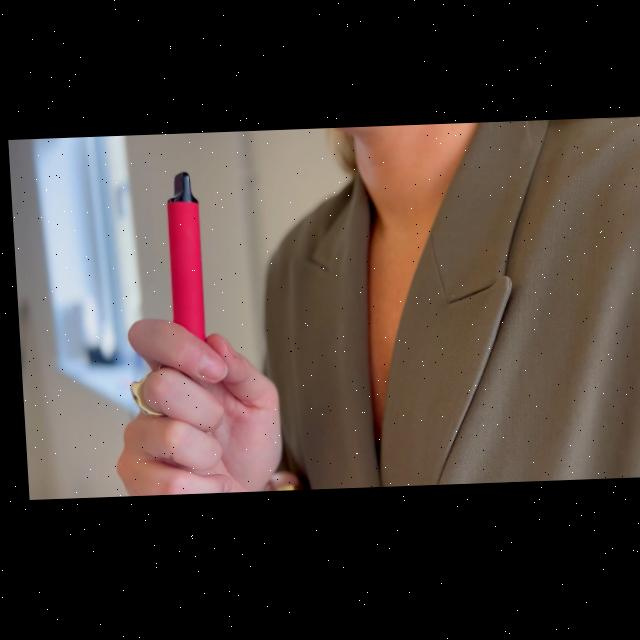vape: (162, 174, 202, 344)
